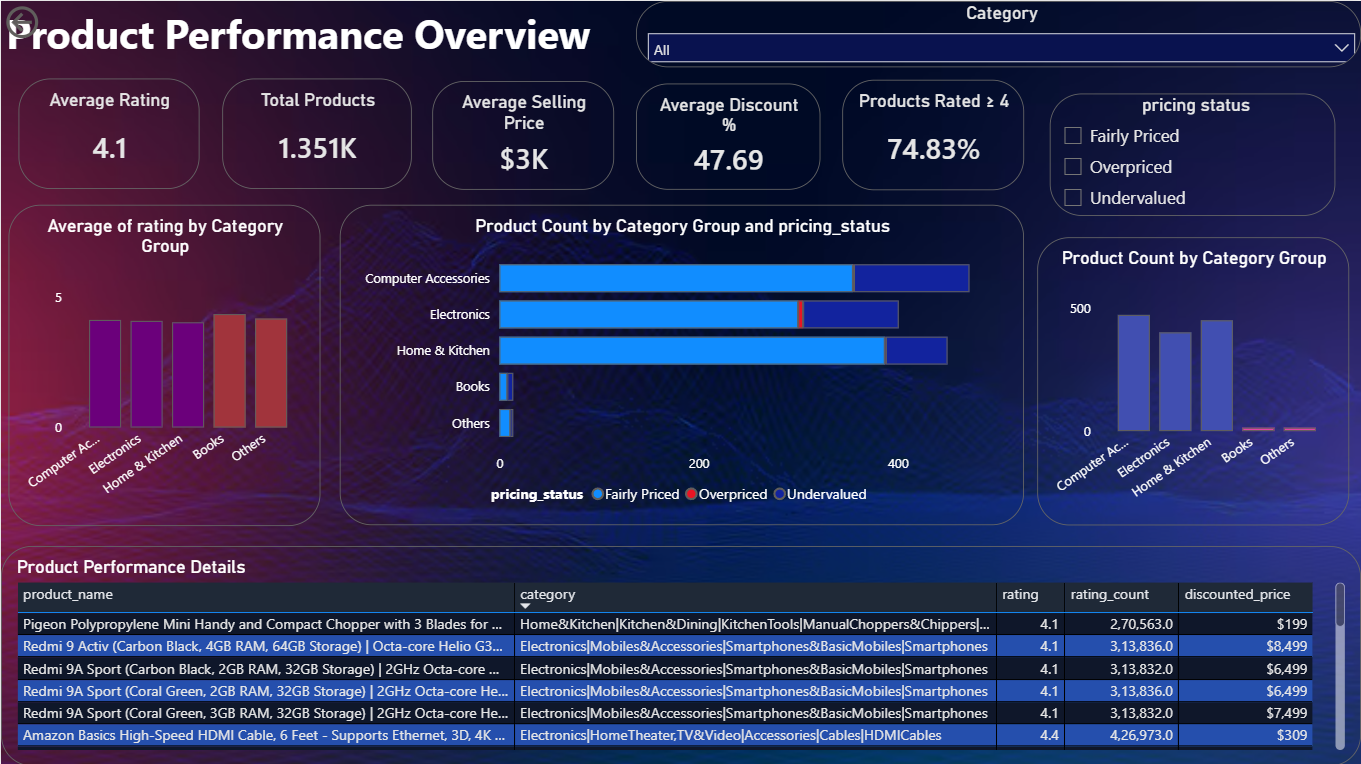

What the dashboard file says about the page in this screenshot:
{"tool":"powerbi","page":{"name":"Page 1","canvas":[1280,720],"ordinal":0},"visuals":[{"type":"textbox","box":[0,0,597.5,87.5],"z":0},{"type":"clusteredColumnChart","fields":{"Y":["Avg(amazon_final_eda.rating)"],"Category":["amazon_final_eda.Category Group"]},"box":[7.5,191.2,293.8,302.5],"z":1000},{"type":"clusteredColumnChart","fields":{"Category":["amazon_final_eda.Category Group"],"Y":["amazon_final_eda.Product Count"]},"box":[975,222.5,293.8,271.2],"z":2000},{"type":"barChart","fields":{"Category":["amazon_final_eda.Category Group"],"Series":["amazon_final_eda.pricing_status"],"Y":["amazon_final_eda.Product Count"]},"box":[318.8,191.2,643.8,301.2],"z":3000},{"type":"tableEx","title":"Product Performance Details","fields":{"Values":["amazon_final_eda.product_name","amazon_final_eda.category","amazon_final_eda.rating","amazon_final_eda.rating_count","amazon_final_eda.discounted_price"]},"box":[0,512.5,1280,207.5],"z":4000},{"type":"actionButton","box":[0,0,100,40],"z":5000},{"type":"cardVisual","title":"Average Rating","fields":{"Data":["Avg(amazon_final_eda.rating)"]},"box":[16.2,72.5,170,103.8],"z":6000},{"type":"cardVisual","title":"Average Discount %","fields":{"Data":["Avg(amazon_final_eda.discount_percentage)"]},"box":[597.5,77.5,173.8,100],"z":7000},{"type":"cardVisual","title":"Average Selling Price","fields":{"Data":["Avg(amazon_final_eda.discounted_price)"]},"box":[406.2,75,171.2,102.5],"z":8000},{"type":"cardVisual","title":"Total Products","fields":{"Data":["Count(amazon_final_eda.product_id)"]},"box":[208.8,72.5,178.8,103.8],"z":9000},{"type":"cardVisual","title":"Products Rated ≥ 4","fields":{"Data":["amazon_final_eda.High Rating %"]},"box":[791.2,73.8,171.2,103.8],"z":10000},{"type":"slicer","title":"Category","fields":{"Values":["amazon_final_eda.category"]},"box":[597.5,0,682.5,62.5],"z":11000},{"type":"slicer","title":"pricing status","fields":{"Values":["amazon_final_eda.pricing_status"]},"box":[987.5,87.5,268.8,115],"z":12000}]}

Visuals, with their boxes in screenshot pixels (x1, y1, x2, y2), scaled from the page's 1280x720 canvas onto the 1361x764 screenshot:
textbox: Rect(0, 0, 635, 93)
clusteredColumnChart - Avg(amazon_final_eda.rating) x amazon_final_eda.Category Group: Rect(8, 203, 320, 524)
clusteredColumnChart - amazon_final_eda.Category Group x amazon_final_eda.Product Count: Rect(1037, 236, 1349, 524)
barChart - amazon_final_eda.Category Group x amazon_final_eda.pricing_status: Rect(339, 203, 1024, 522)
"Product Performance Details" tableEx: Rect(0, 544, 1360, 763)
actionButton: Rect(0, 0, 106, 42)
"Average Rating" cardVisual: Rect(17, 77, 198, 187)
"Average Discount %" cardVisual: Rect(635, 82, 820, 188)
"Average Selling Price" cardVisual: Rect(432, 80, 614, 188)
"Total Products" cardVisual: Rect(222, 77, 412, 187)
"Products Rated ≥ 4" cardVisual: Rect(841, 78, 1023, 188)
"Category" slicer: Rect(635, 0, 1360, 66)
"pricing status" slicer: Rect(1050, 93, 1336, 215)
